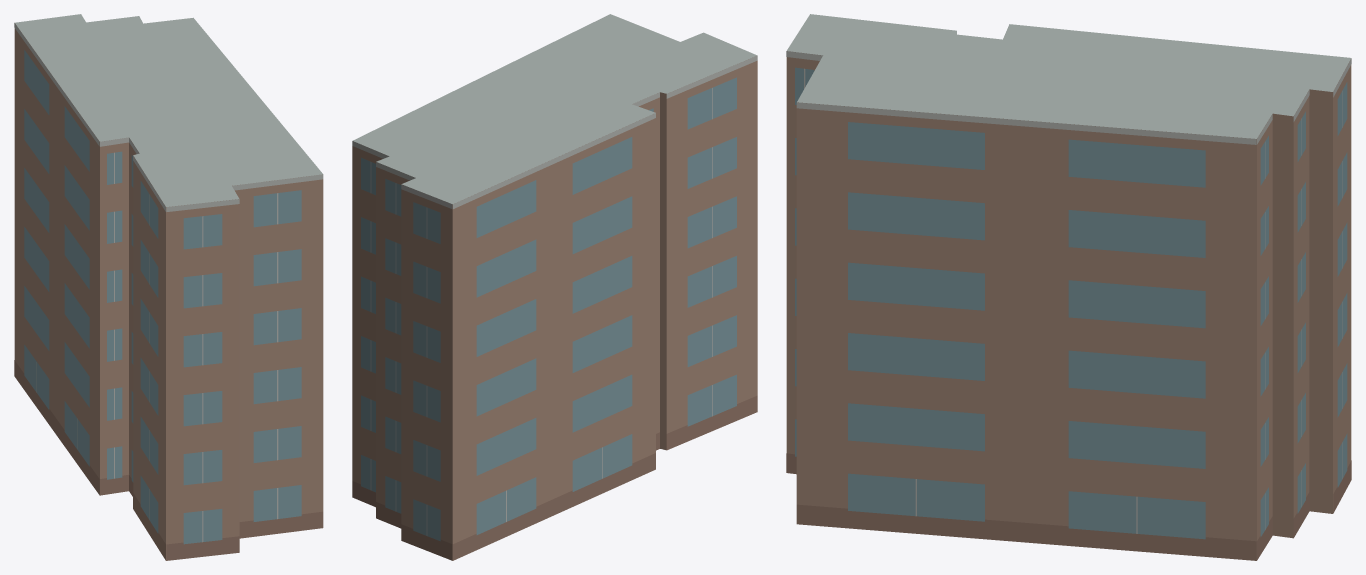
The model's file is survey-upis-32871796.glb.
The picture shows the model from 3 angles, left to right: view 1: azimuth 30°, elevation 25°; view 2: azimuth 150°, elevation 25°; view 3: azimuth 270°, elevation 25°; orthographic projection. The views are drawn at different scales.
Parts seen in each view (by area): view 1: survey-upis-32871796.tmp; view 2: survey-upis-32871796.tmp; view 3: survey-upis-32871796.tmp.
Boxes of the visible parts, x1,y1,x2,y2 form: survey-upis-32871796.tmp: (14, 14, 323, 560); survey-upis-32871796.tmp: (352, 14, 757, 560); survey-upis-32871796.tmp: (786, 14, 1351, 560).
Size of the model in its own units: 10.87 by 17.1 by 20.76.
